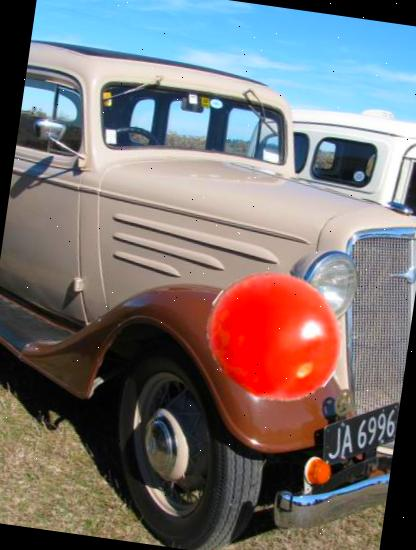Tomato: (196, 257, 354, 415)
